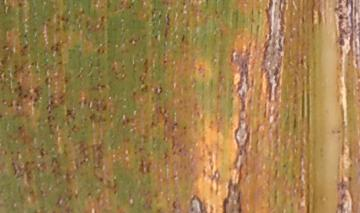tarspot: (170, 199, 178, 209), (298, 56, 306, 66), (179, 33, 186, 43), (97, 175, 105, 183), (177, 146, 183, 155), (161, 59, 168, 65), (181, 124, 186, 130)
